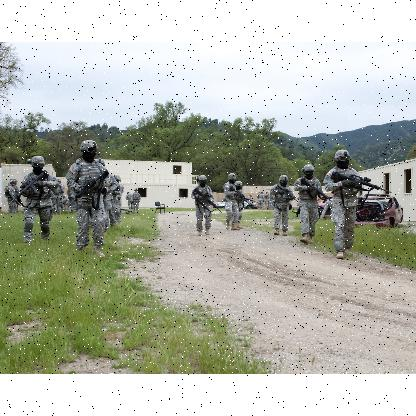gun: (330, 169, 390, 211), (67, 166, 109, 208), (7, 168, 48, 208), (192, 186, 222, 218), (300, 175, 332, 203), (274, 182, 298, 210), (230, 184, 250, 208), (243, 194, 261, 204)
